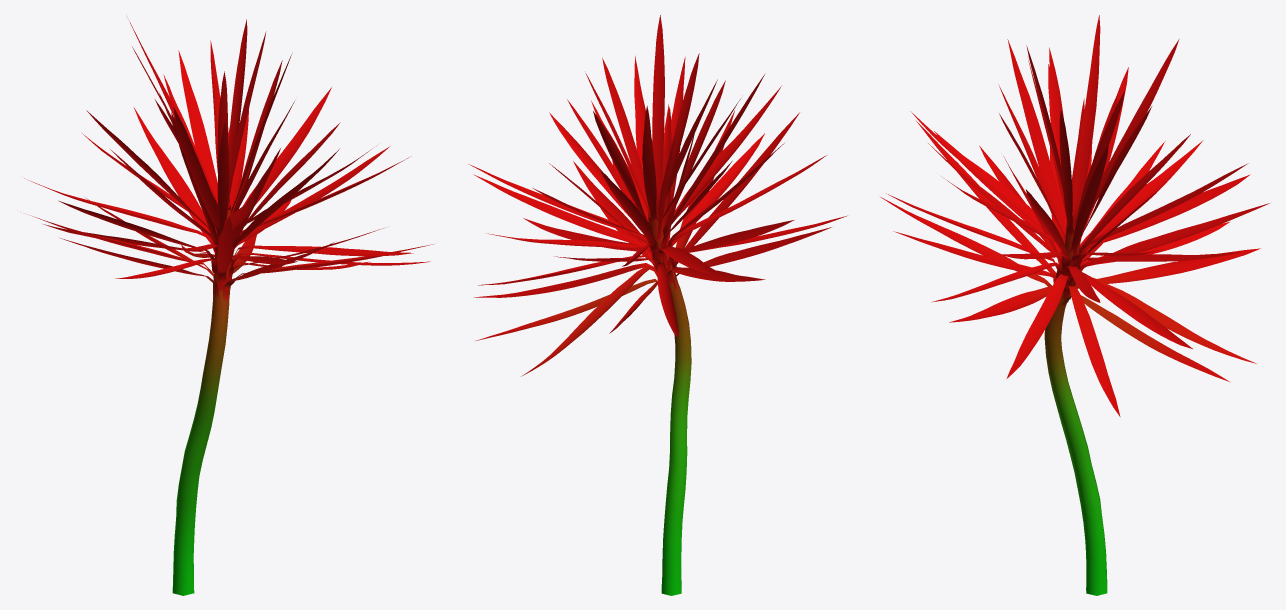
The model's file is Var12_LOD2.fbx.
3 renders of one model, left to right at view 1: azimuth 30°, elevation 25°; view 2: azimuth 150°, elevation 25°; view 3: azimuth 270°, elevation 25°, orthographic. The views are drawn at different scales.
Visible parts, largest first — view 1: _ksp4_Var12_LOD2; view 2: _ksp4_Var12_LOD2; view 3: _ksp4_Var12_LOD2.
Part boxes in pixels (<box>): _ksp4_Var12_LOD2: <box>24,19,432,595</box>; _ksp4_Var12_LOD2: <box>468,15,847,595</box>; _ksp4_Var12_LOD2: <box>880,15,1269,595</box>.
Bounding box in the file's own units: 73.89 × 113 × 70.86.
